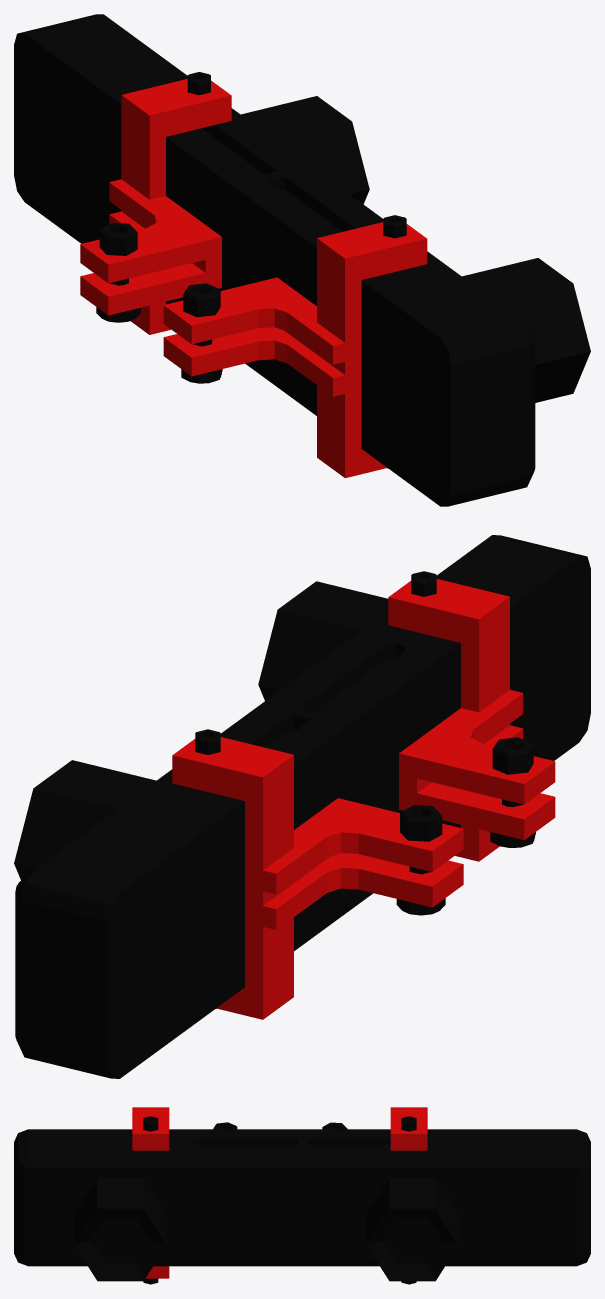
File: zed_mini.dae
The picture shows the model from 3 angles, top to bottom: view 1: azimuth 30°, elevation 25°; view 2: azimuth 150°, elevation 25°; view 3: azimuth 270°, elevation 25°; orthographic projection. The views are drawn at different scales.
Parts seen in each view (by area): view 1: Zed_Mini_Balck, Zed_Mini_Red; view 2: Zed_Mini_Balck, Zed_Mini_Red; view 3: Zed_Mini_Balck, Zed_Mini_Red.
Boxes of the visible parts, box(x1,y1,x2,y2) form: Zed_Mini_Balck: box(14, 14, 590, 506); Zed_Mini_Red: box(80, 79, 427, 478); Zed_Mini_Balck: box(14, 535, 590, 1078); Zed_Mini_Red: box(172, 579, 555, 1019); Zed_Mini_Balck: box(14, 1116, 590, 1284); Zed_Mini_Red: box(132, 1107, 427, 1278).
Bounding box in the file's own units: 0.0492 × 0.1245 × 0.0385.
